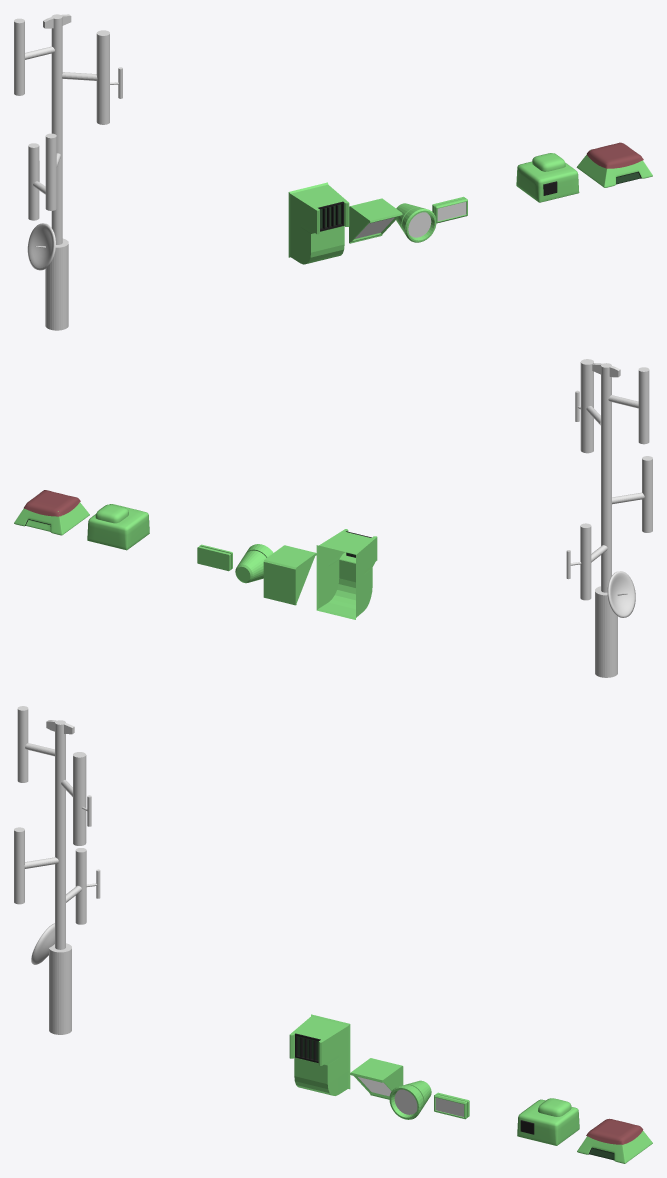
Rendered from Details.fbx.
3 views of the same model, one above another, from view 1: azimuth 30°, elevation 25°; view 2: azimuth 150°, elevation 25°; view 3: azimuth 330°, elevation 25° (orthographic).
Visible parts, largest first — view 1: Cylinder.001, Cube.002, Cube.004, Cube, Cylinder.006, Cube.007, Cylinder, Cylinder.002, Plane, Cylinder.010, Cylinder.012, Cylinder.005 (+2 smaller); view 2: Cube.002, Cylinder.001, Cube, Cube.004, Cylinder.006, Cube.007, Cylinder.002, Plane, Cylinder, Cylinder.005, Cylinder.012, Cylinder.010 (+2 smaller); view 3: Cylinder.001, Cube.002, Cube.004, Cube, Cylinder.006, Cube.007, Cylinder, Plane, Cylinder.005, Cylinder.012, Cylinder.010, Cube.001.
Boxes of the visible parts, left/top/right/bottom form: Cylinder.001: left=43, top=14, right=71, bottom=330; Cube.002: left=288, top=182, right=349, bottom=264; Cube.004: left=516, top=161, right=579, bottom=202; Cube: left=349, top=198, right=402, bottom=243; Cylinder.006: left=96, top=30, right=109, bottom=124; Cube.007: left=576, top=150, right=652, bottom=187; Cylinder: left=396, top=203, right=436, bottom=242; Cylinder.002: left=27, top=223, right=55, bottom=270; Plane: left=587, top=142, right=643, bottom=168; Cylinder.010: left=45, top=133, right=56, bottom=210; Cylinder.012: left=28, top=143, right=39, bottom=220; Cylinder.005: left=14, top=18, right=24, bottom=95; Cube.002: left=316, top=529, right=377, bottom=619; Cylinder.001: left=592, top=363, right=620, bottom=677; Cube: left=263, top=545, right=316, bottom=605; Cube.004: left=87, top=504, right=149, bottom=550; Cylinder.006: left=580, top=359, right=593, bottom=453; Cube.007: left=14, top=502, right=89, bottom=535; Cylinder.002: left=607, top=571, right=635, bottom=617; Plane: left=24, top=490, right=80, bottom=516; Cylinder: left=235, top=544, right=273, bottom=583; Cylinder.005: left=638, top=367, right=649, bottom=444; Cylinder.012: left=580, top=523, right=591, bottom=600; Cylinder.010: left=642, top=456, right=652, bottom=532; Cylinder.001: left=46, top=720, right=74, bottom=1034; Cube.002: left=289, top=1014, right=350, bottom=1095; Cube.004: left=517, top=1099, right=579, bottom=1145; Cube: left=350, top=1058, right=403, bottom=1099; Cylinder.006: left=73, top=752, right=86, bottom=845; Cube.007: left=577, top=1131, right=652, bottom=1163; Cylinder: left=389, top=1080, right=431, bottom=1119; Plane: left=586, top=1118, right=643, bottom=1144; Cylinder.005: left=17, top=706, right=28, bottom=782; Cylinder.012: left=75, top=848, right=86, bottom=924; Cylinder.010: left=14, top=827, right=24, bottom=904; Cube.001: left=434, top=1092, right=469, bottom=1119.
Bounding box in the file's own units: 3876 × 1863 × 540.
